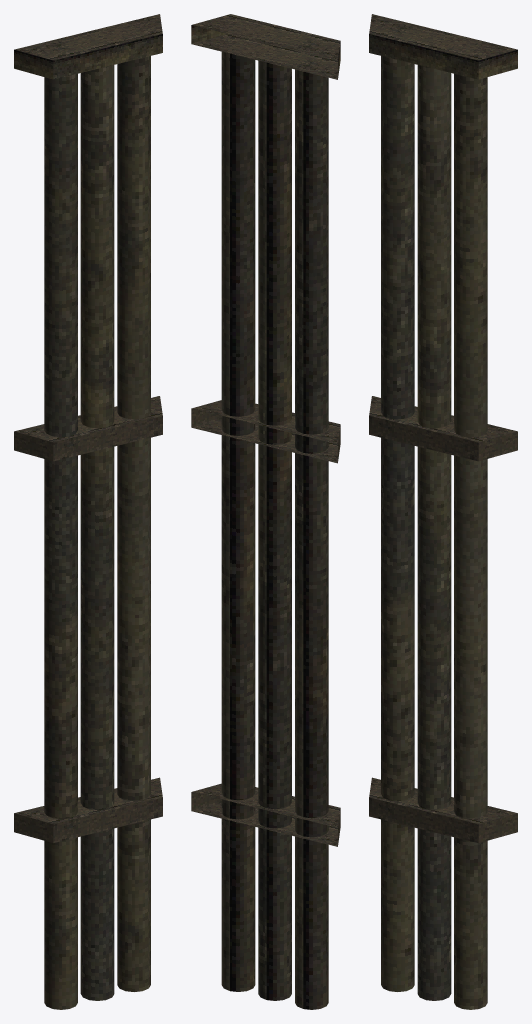
Rendered from pipes_hr_1_vertical_end_1.glb.
3 renders of one model, left to right at view 1: azimuth 30°, elevation 25°; view 2: azimuth 150°, elevation 25°; view 3: azimuth 330°, elevation 25°, orthographic.
Parts seen in each view (by area): view 1: pipes_hr_1_vertical_end_1; view 2: pipes_hr_1_vertical_end_1; view 3: pipes_hr_1_vertical_end_1.
Part boxes in pixels (<box>): pipes_hr_1_vertical_end_1: <box>14,14,162,1009</box>; pipes_hr_1_vertical_end_1: <box>191,14,340,1009</box>; pipes_hr_1_vertical_end_1: <box>369,14,517,1009</box>.
Bounding box in the file's own units: 0.4 × 2.5 × 0.1.
Materials: 1 (1 with a texture image).
